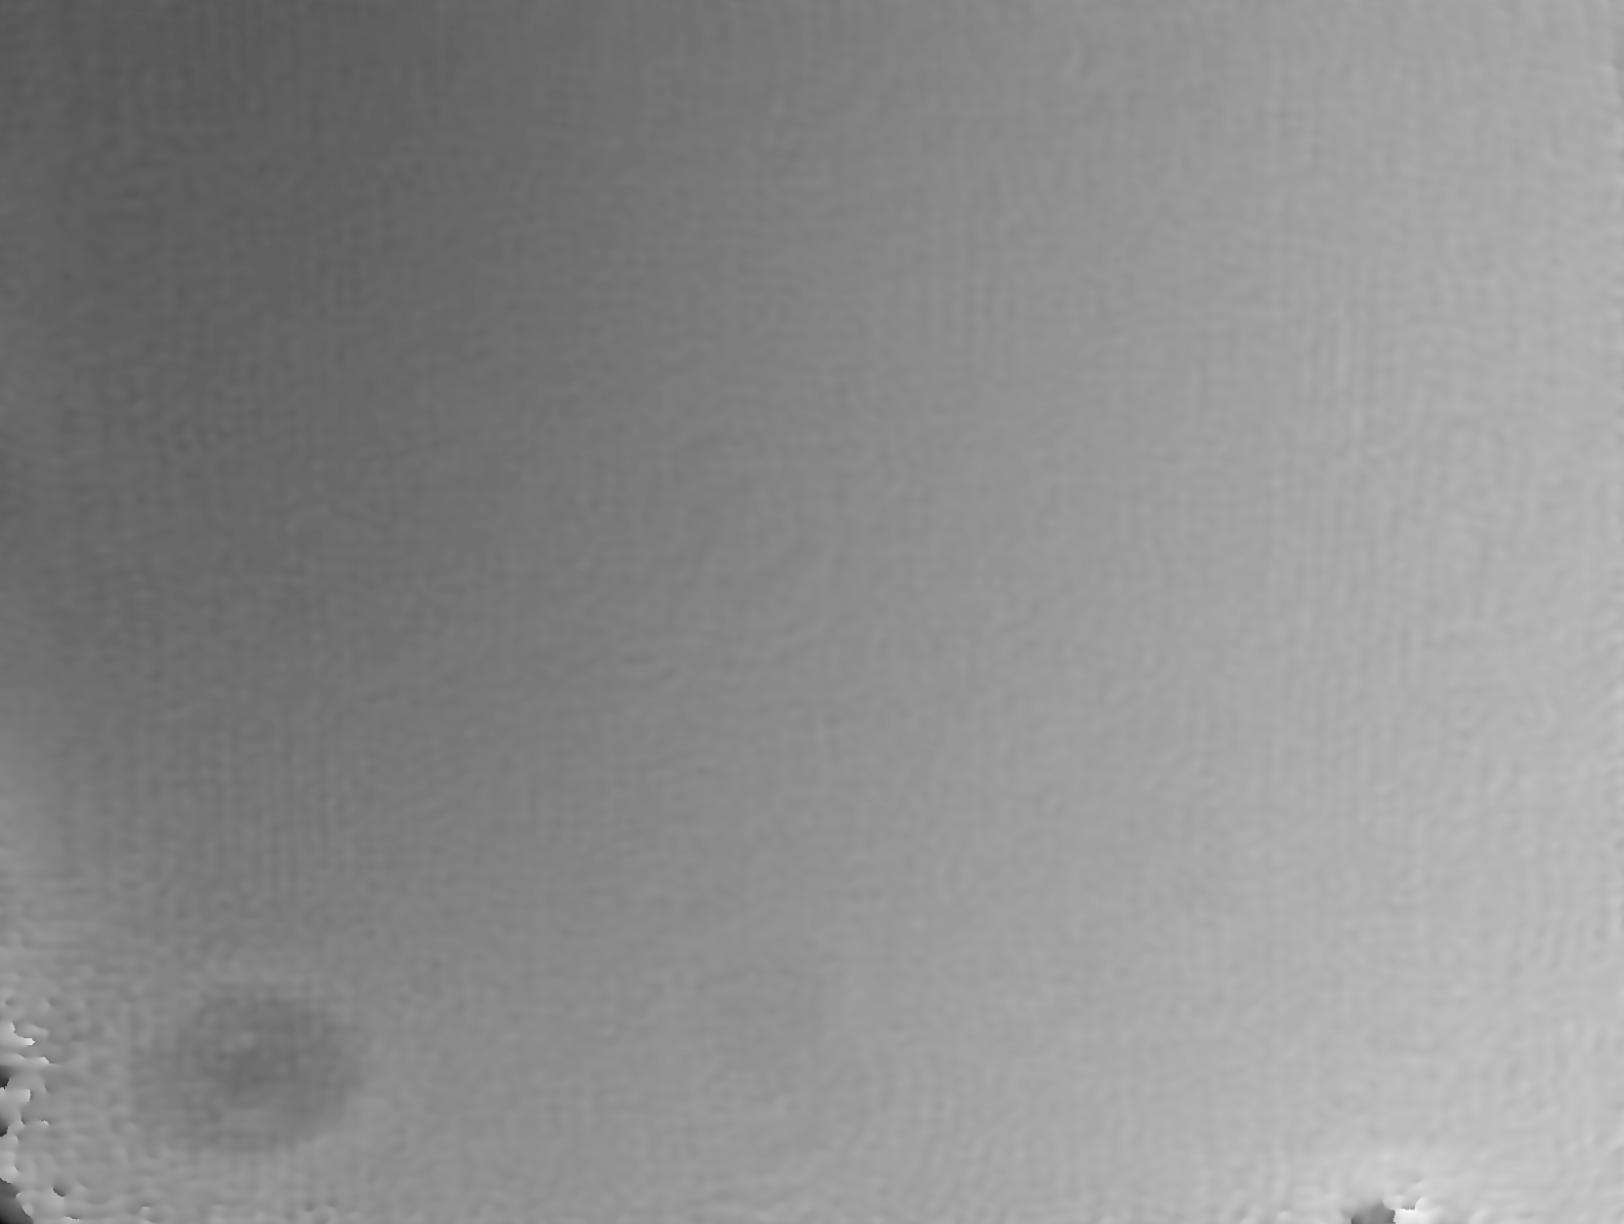cell: (127, 967, 373, 1166)
